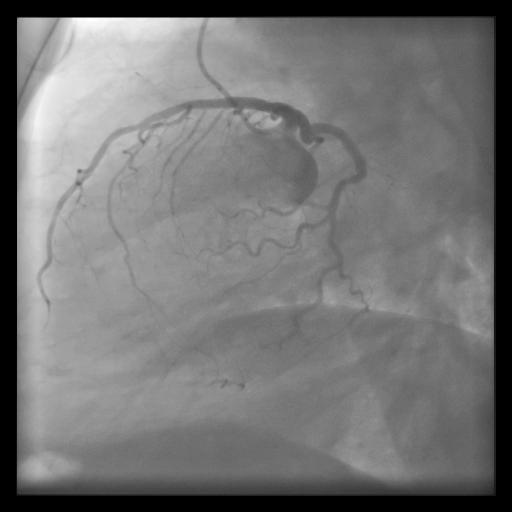Stenosis: (264, 99, 273, 113)
